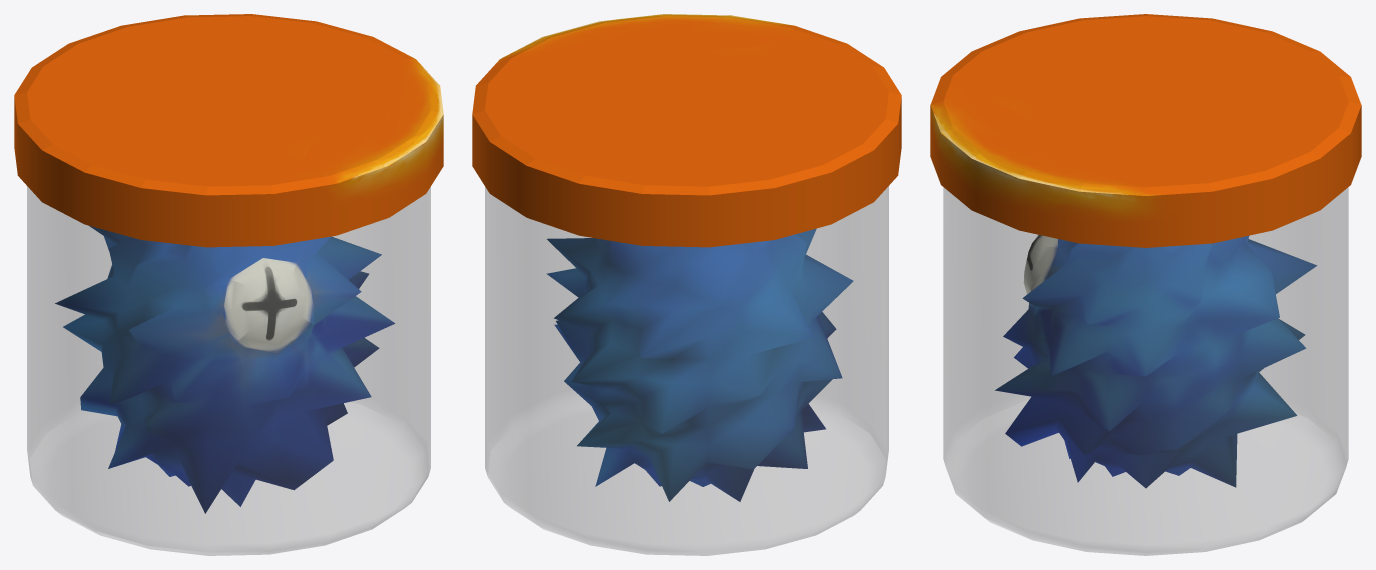
Rendered from Food_Spike.fbx.
3 renders of one model, left to right at view 1: azimuth 30°, elevation 25°; view 2: azimuth 150°, elevation 25°; view 3: azimuth 270°, elevation 25°, orthographic.
Visible parts, largest first — view 1: pSphere5; view 2: pSphere5; view 3: pSphere5.
Boxes of the visible parts, box(x1,y1,x2,y2) form: pSphere5: box(14, 14, 443, 555); pSphere5: box(472, 14, 901, 555); pSphere5: box(930, 14, 1361, 555).
Size of the model in its own units: 12.97 by 12.46 by 12.97.
Materials: 3 (2 with a texture image).
